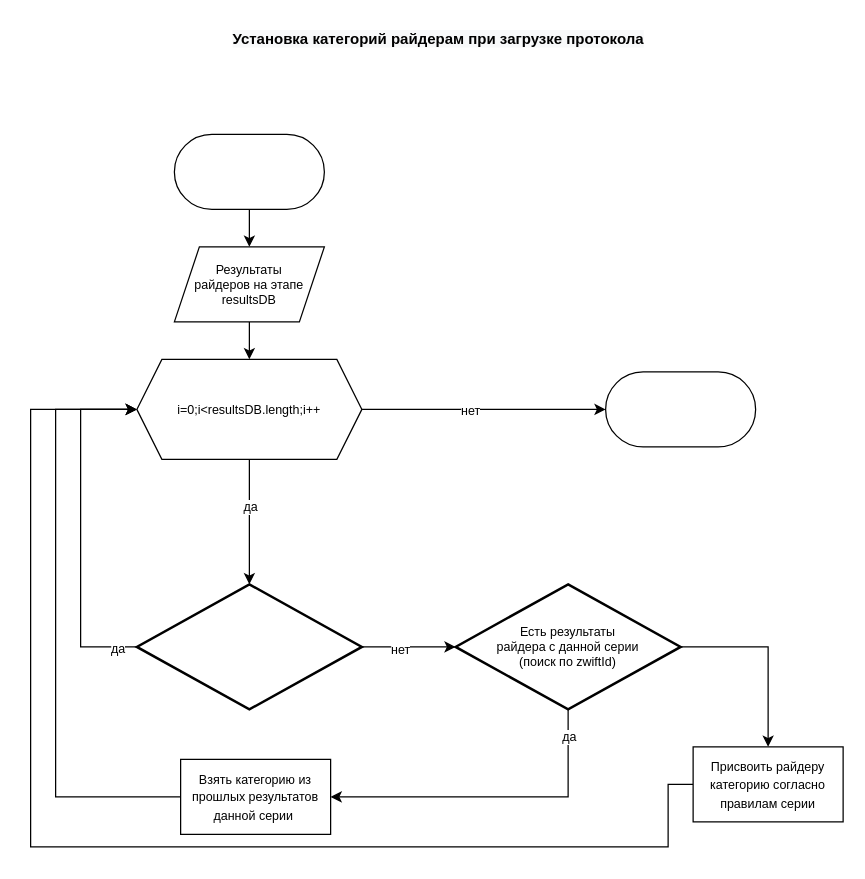
This 865x879 diagram has some shape labels left out. Here are the shapes that lost their labels. From the top down, the centre of each, then its label:
point 248,171: Начало
point 680,409: Конец
point 248,646: resultsDB[i] Райдер зарегистрирован riderId !== null
